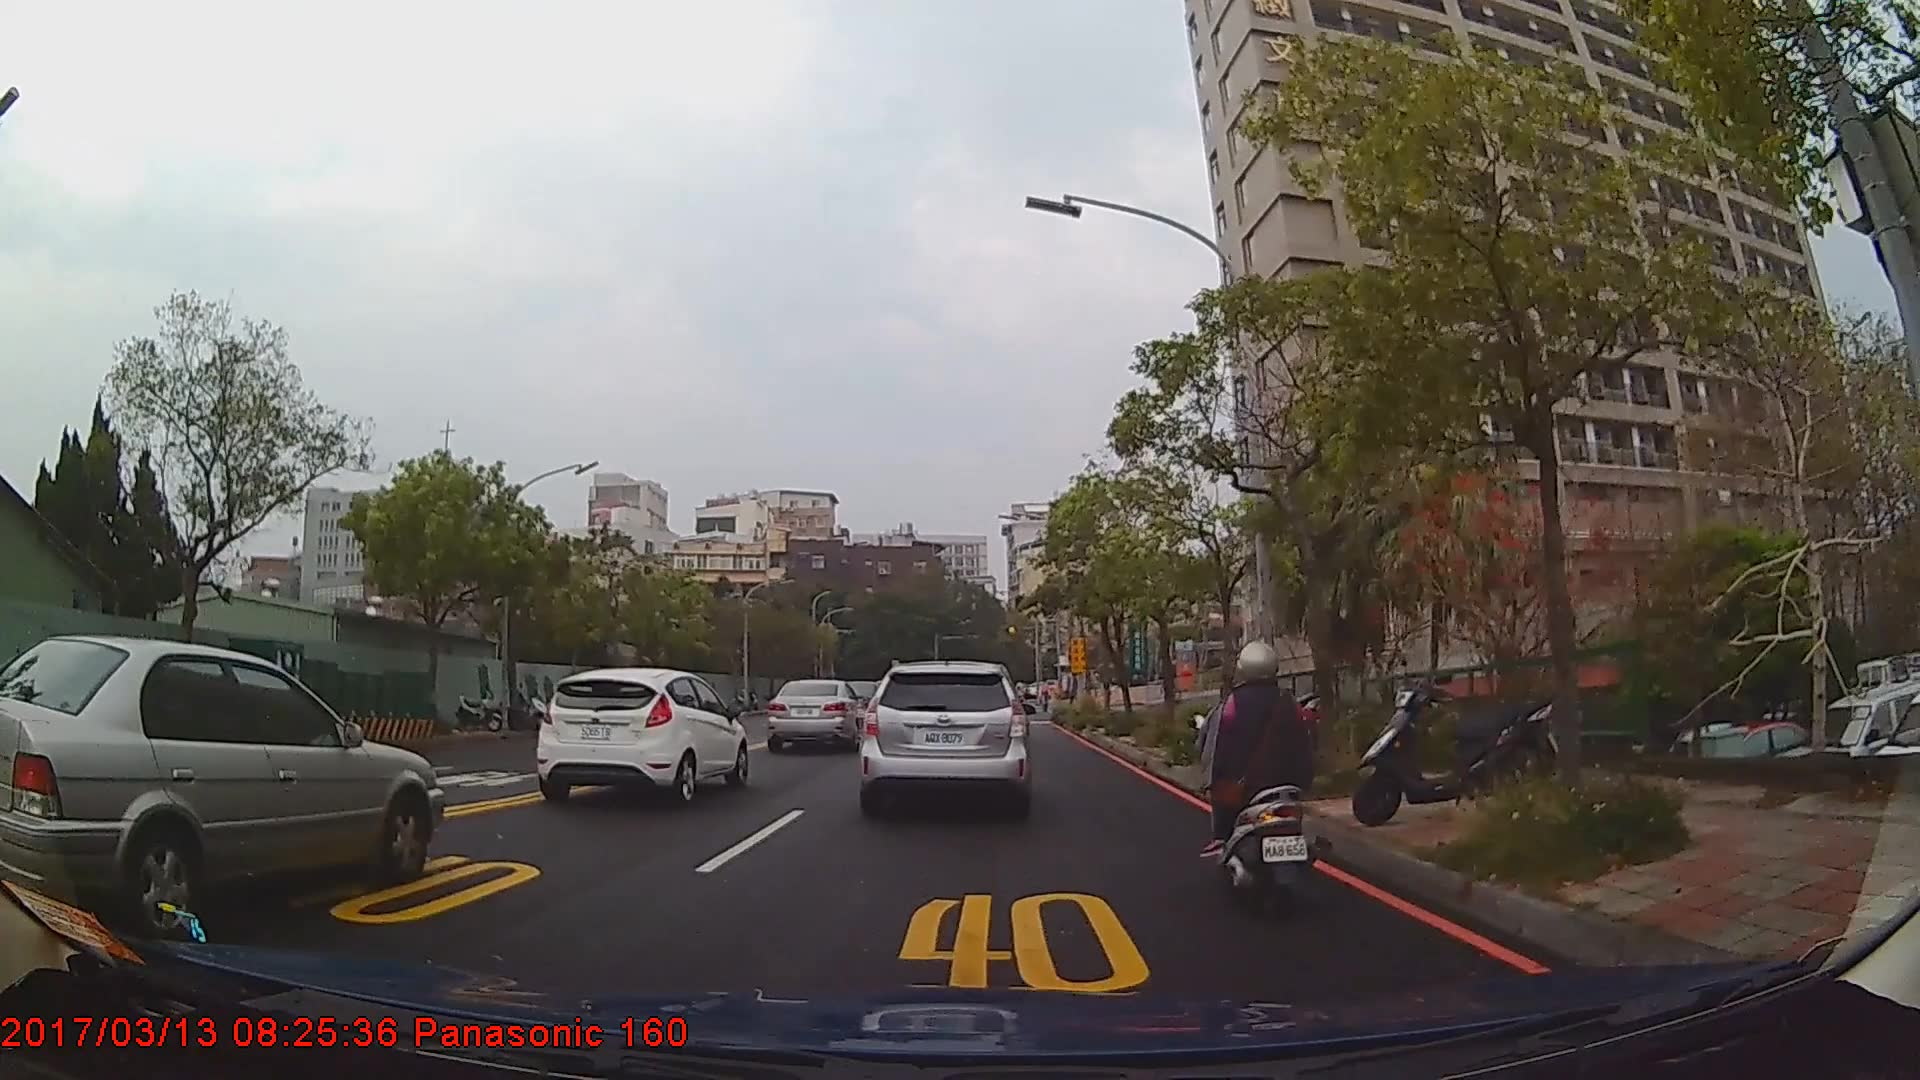rider: (1202, 638, 1336, 913)
vehicle: (0, 627, 443, 936), (532, 666, 746, 808), (858, 658, 1030, 820), (766, 676, 868, 753)
